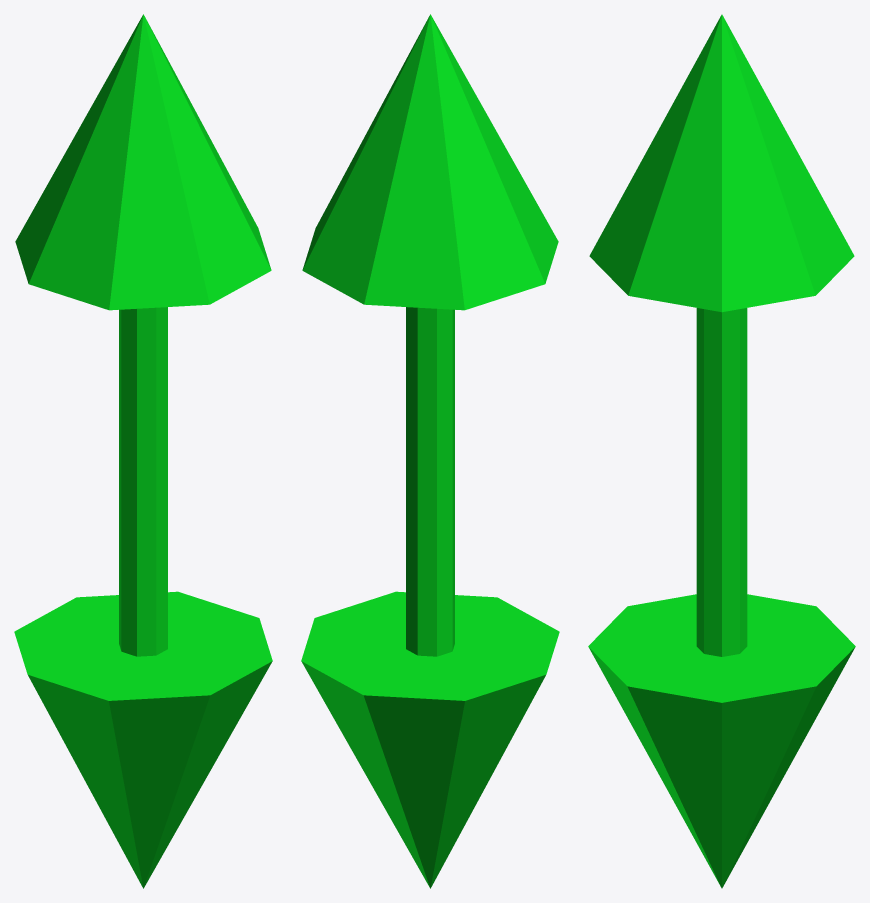
File: flechacorta.fbx
3 views of the same model, side by side, from view 1: azimuth 30°, elevation 25°; view 2: azimuth 150°, elevation 25°; view 3: azimuth 270°, elevation 25° (orthographic).
Visible parts, largest first — view 1: Cone; view 2: Cone; view 3: Cone.
Part boxes in pixels (x1,y1,x2,y2): Cone: [14, 14, 272, 888]; Cone: [301, 14, 559, 888]; Cone: [588, 14, 855, 888].
Bounding box in the file's own units: 200 × 721 × 200.
